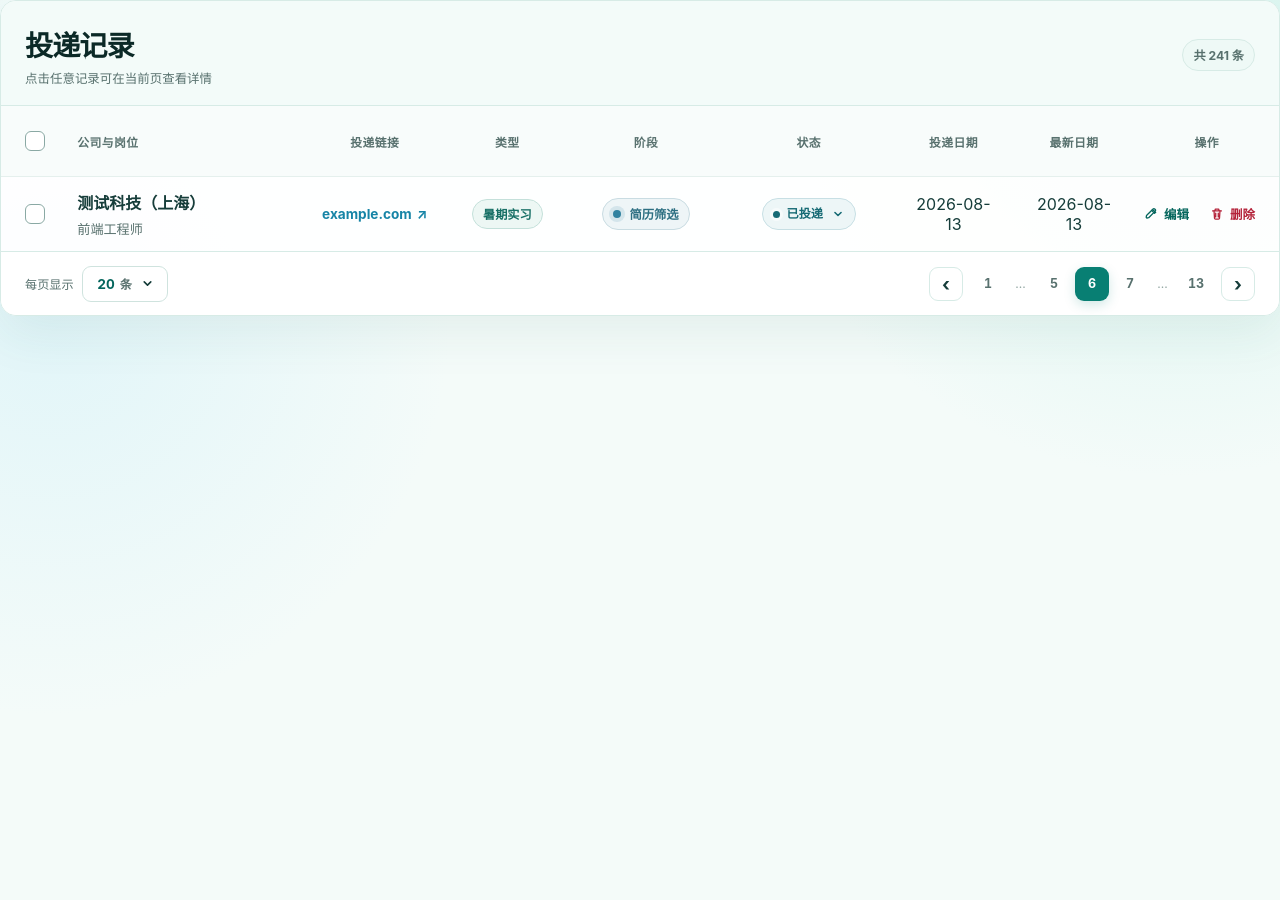
Scenario: 投递记录列表 › 点击记录后在当前页面打开详情弹窗
Expected: the link with aria-label "打开 测试科技（上海） 的投递链接" shows "example.com", 322,206 -> 427,222
Expected: the text "暑期实习" is shown, 472,199 -> 543,229
What coordinates should you click on to do the following:
click the row named "查看 测试科技（上海） 前端工程师 详情"
I would click on:
 (640, 214)
Its box is 1,176 -> 1279,251.
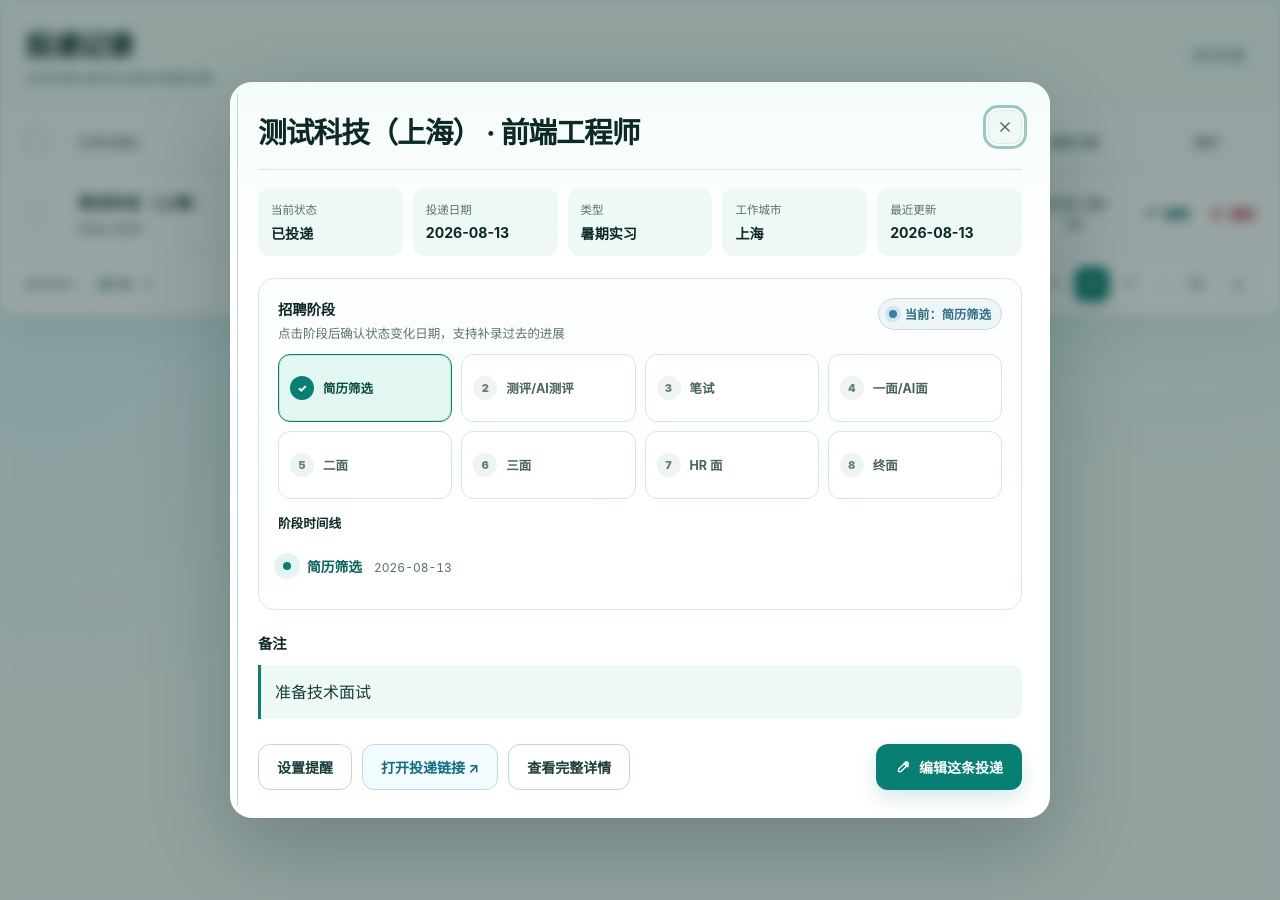
Result: the heading "测试科技（上海） · 前端工程师" is shown at 258,110 -> 640,151
Result: the text "准备技术面试" is shown at 258,665 -> 1022,719
What coordinates should you click on to do the following:
click the button named "关闭弹窗"
I would click on:
 (1005, 127)
Its box is 988,110 -> 1022,144.
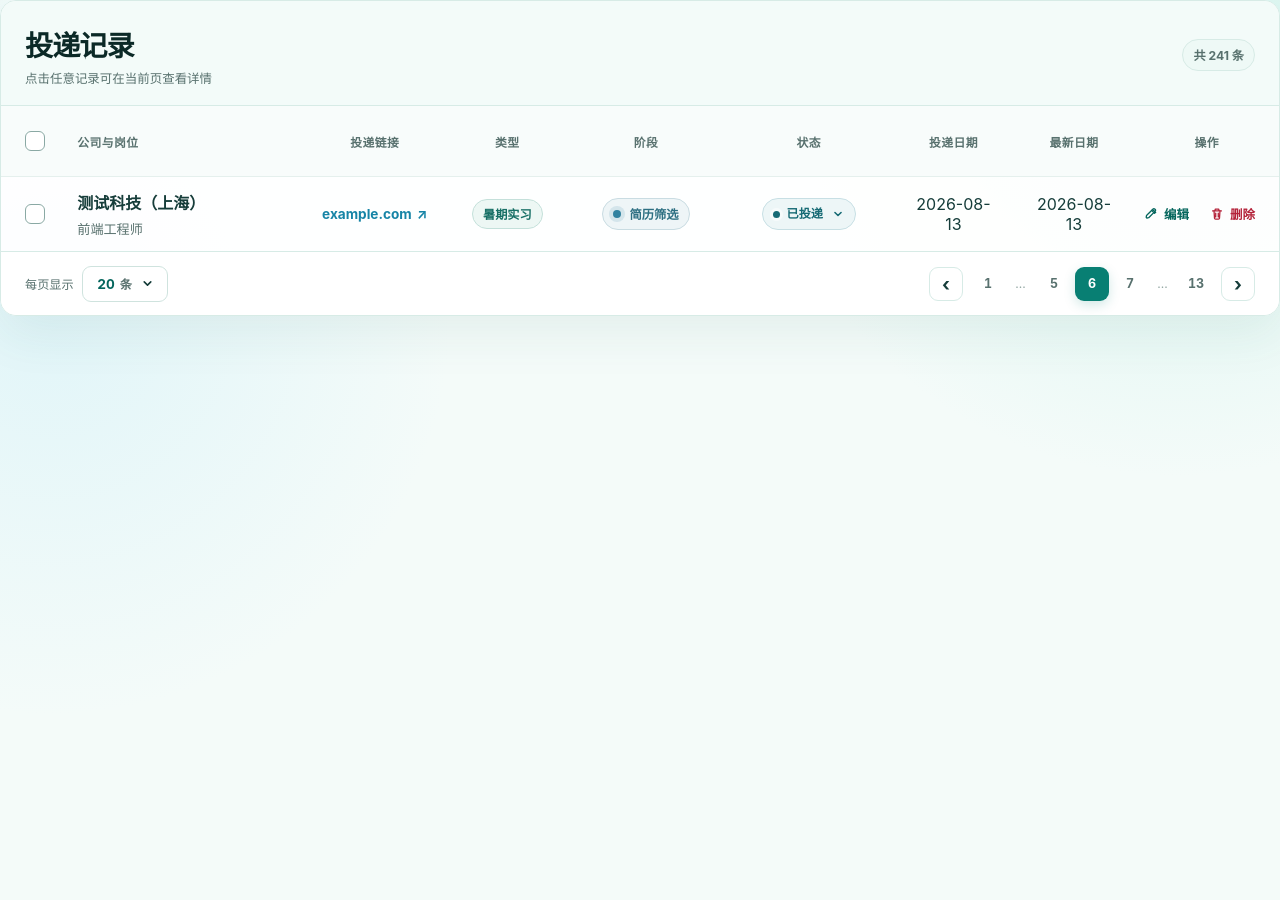
What coordinates should you click on to do the following:
click the row named "查看 测试科技（上海） 前端工程师 详情"
I would click on:
 (640, 214)
Its box is 1,176 -> 1279,251.
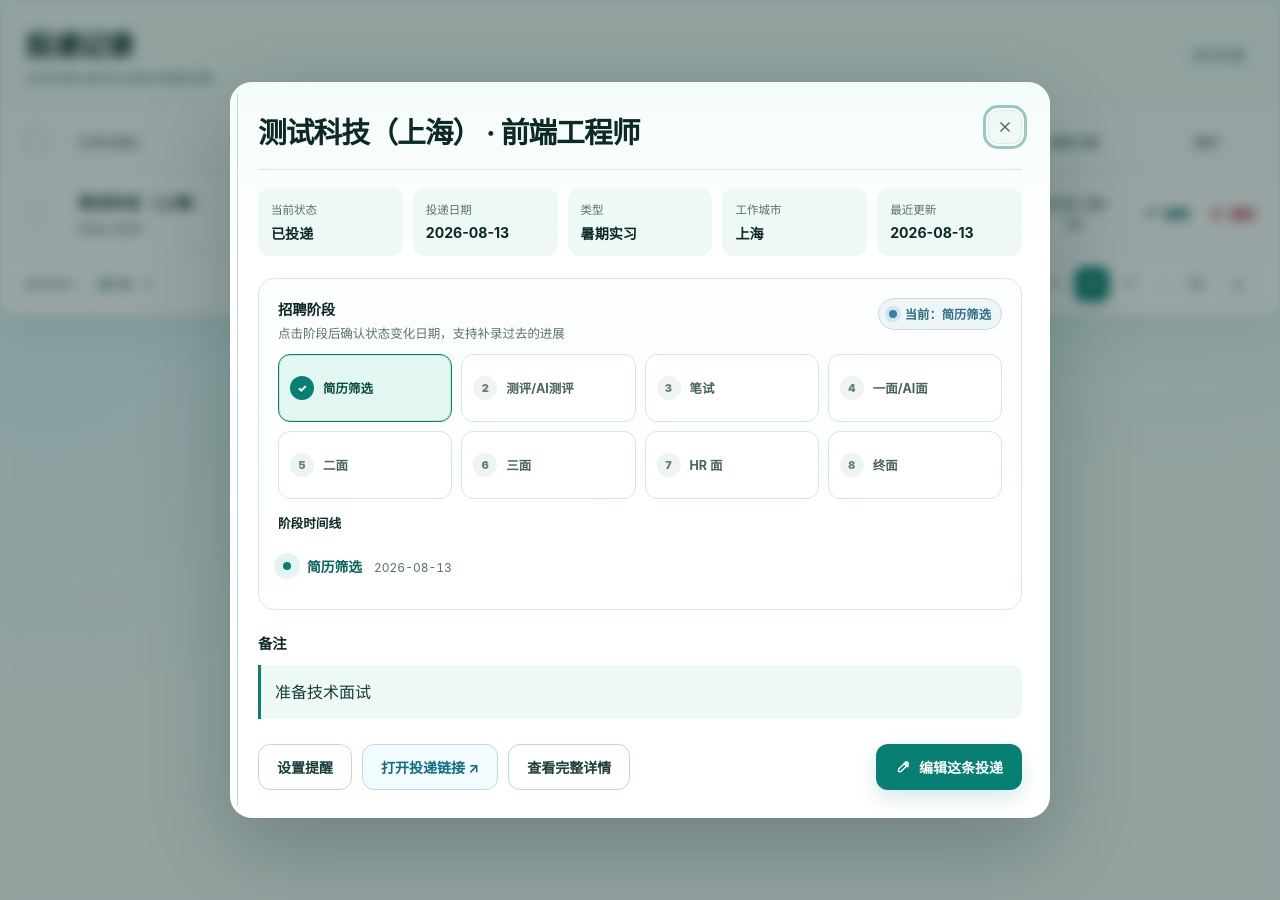
Result: the text "准备技术面试" is shown at 258,665 -> 1022,719
What coordinates should you click on to do the following:
click the button "编辑这条投递"
I would click on:
 (949, 767)
Its box is 876,744 -> 1022,790.
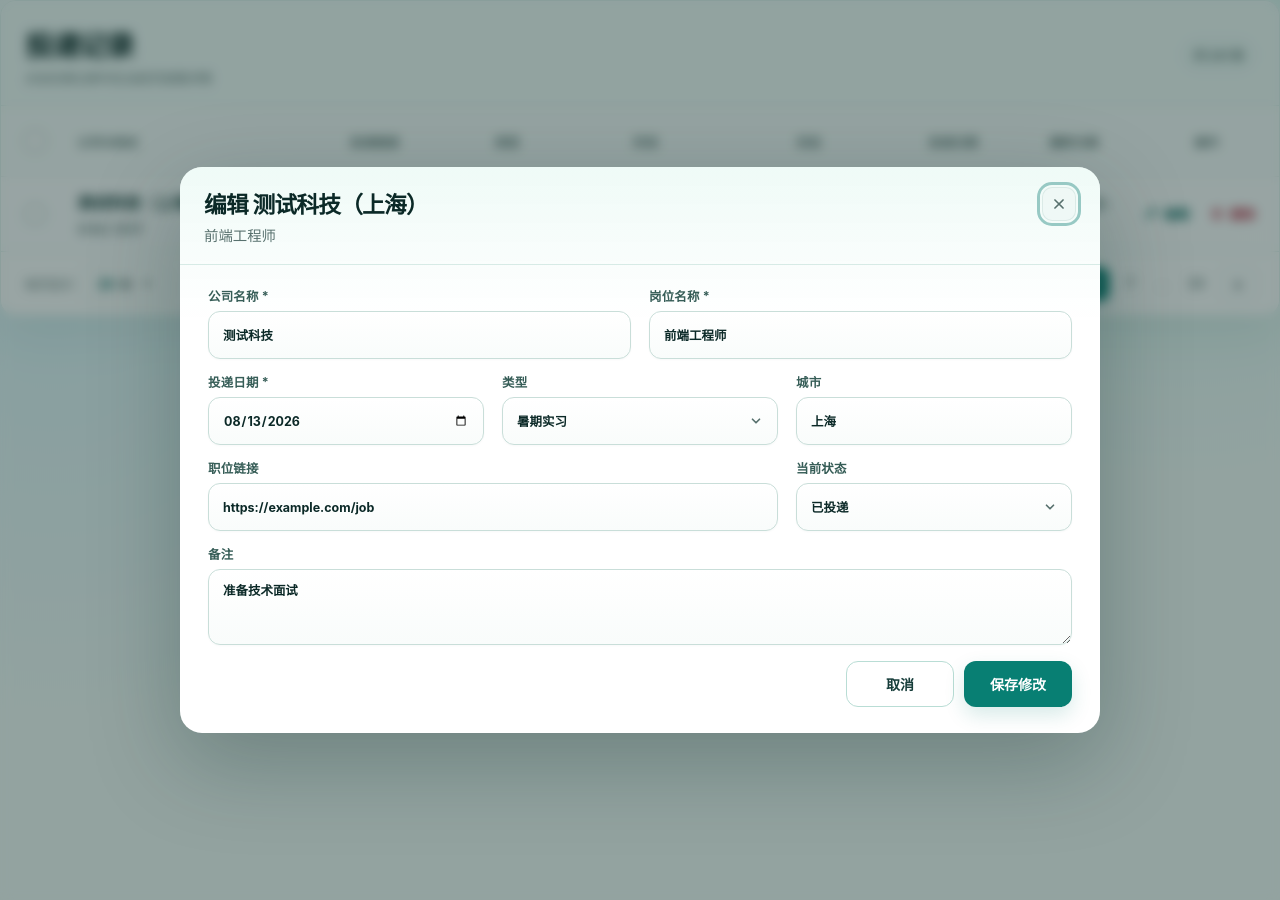
Result: the heading "编辑 测试科技（上海）" is shown at 204,187 -> 428,220
Result: the field labelled "公司名称 *" holds "测试科技" at 208,311 -> 631,359
